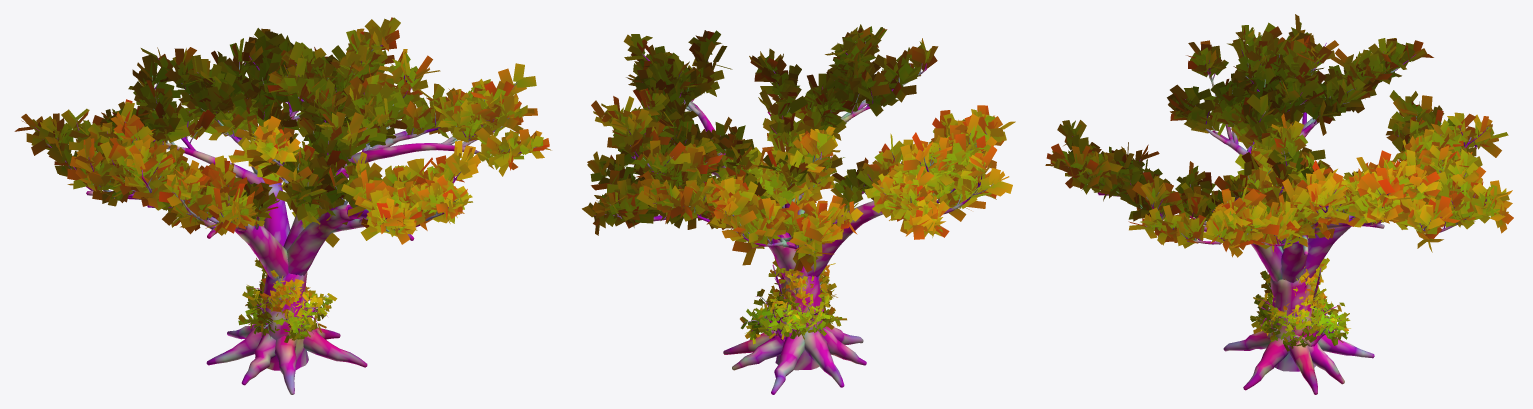
The model's file is plants.glb.
3 renders of one model, left to right at view 1: azimuth 30°, elevation 25°; view 2: azimuth 150°, elevation 25°; view 3: azimuth 270°, elevation 25°, orthographic. The views are drawn at different scales.
Visible parts, largest first — view 1: GiantLaurel_leaves, GiantLaurel_bark, Olive0_leaves, Olive3_leaves, Laurel1_leaves, Olive2_leaves, Laurel0_leaves; view 2: GiantLaurel_leaves, GiantLaurel_bark, Olive3_leaves, Laurel2_leaves, Laurel1_leaves, Olive0_leaves, Olive1_leaves; view 3: GiantLaurel_leaves, GiantLaurel_bark, Olive3_leaves, Olive2_leaves, Olive0_leaves.
Part boxes in pixels (x1=…): GiantLaurel_leaves: x1=14, y1=17, x2=551, y2=247; GiantLaurel_bark: x1=34, y1=45, x2=536, y2=394; Olive0_leaves: x1=238, y1=289, x2=318, y2=340; Olive3_leaves: x1=245, y1=283, x2=337, y2=342; Laurel1_leaves: x1=251, y1=258, x2=310, y2=328; Olive2_leaves: x1=295, y1=290, x2=327, y2=336; Laurel0_leaves: x1=272, y1=278, x2=304, y2=314; GiantLaurel_leaves: x1=582, y1=24, x2=1015, y2=272; GiantLaurel_bark: x1=594, y1=41, x2=993, y2=394; Olive3_leaves: x1=740, y1=289, x2=822, y2=344; Laurel2_leaves: x1=768, y1=263, x2=835, y2=325; Laurel1_leaves: x1=772, y1=269, x2=836, y2=319; Olive0_leaves: x1=767, y1=289, x2=837, y2=336; Olive1_leaves: x1=782, y1=304, x2=846, y2=339; GiantLaurel_leaves: x1=1045, y1=14, x2=1513, y2=257; GiantLaurel_bark: x1=1068, y1=40, x2=1502, y2=394; Olive3_leaves: x1=1250, y1=296, x2=1350, y2=351; Olive2_leaves: x1=1250, y1=293, x2=1330, y2=336; Olive0_leaves: x1=1254, y1=281, x2=1326, y2=343.
Bounding box in the file's own units: 32.14 × 20.29 × 32.1.
